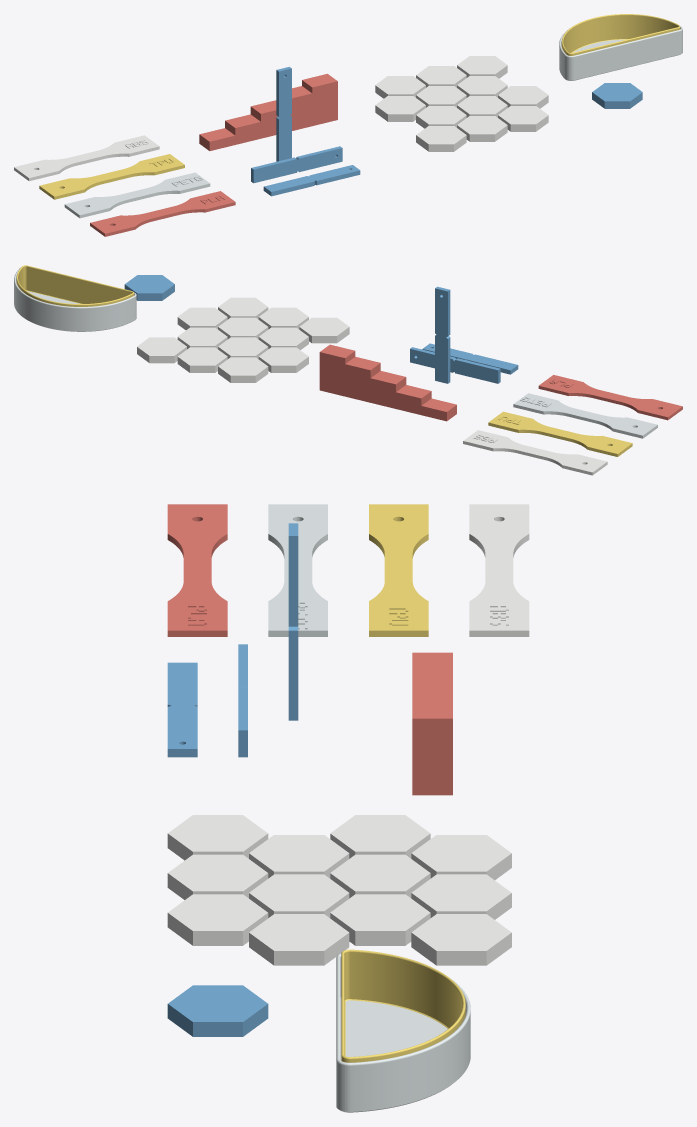
Rendered from piezas-poster-haptico.glb.
3 renders of one model, top to bottom at view 1: azimuth 30°, elevation 25°; view 2: azimuth 150°, elevation 25°; view 3: azimuth 270°, elevation 25°, orthographic. The views are drawn at different scales.
Visible parts, largest first — view 1: Placa de hexagonos, Escalera de capas, Carcasa PETG, Forro TPU, Probeta TPU, Probeta PLA, Probeta ABS, Probeta PETG, Barra de canto, Barra de pie, Barra tumbada, Hexagono de relleno; view 2: Placa de hexagonos, Escalera de capas, Carcasa PETG, Forro TPU, Probeta PETG, Probeta ABS, Probeta PLA, Probeta TPU, Barra de pie, Barra de canto, Hexagono de relleno, Barra tumbada; view 3: Placa de hexagonos, Carcasa PETG, Forro TPU, Probeta PLA, Probeta ABS, Probeta TPU, Escalera de capas, Probeta PETG, Hexagono de relleno, Barra tumbada, Barra de pie, Barra de canto.
Part boxes in pixels (left/top/right/bottom): Placa de hexagonos: left=375, top=56, right=548, bottom=151; Escalera de capas: left=199, top=73, right=337, bottom=150; Carcasa PETG: left=559, top=26, right=682, bottom=80; Forro TPU: left=561, top=14, right=680, bottom=55; Probeta TPU: left=39, top=154, right=184, bottom=199; Probeta PLA: left=90, top=191, right=235, bottom=236; Probeta ABS: left=14, top=135, right=159, bottom=181; Probeta PETG: left=64, top=172, right=210, bottom=218; Barra de canto: left=251, top=146, right=342, bottom=183; Barra de pie: left=276, top=66, right=291, bottom=161; Barra tumbada: left=263, top=165, right=360, bottom=196; Hexagono de relleno: left=592, top=83, right=642, bottom=108; Placa de hexagonos: left=137, top=297, right=349, bottom=382; Escalera de capas: left=319, top=344, right=456, bottom=421; Carcasa PETG: left=14, top=267, right=136, bottom=331; Forro TPU: left=16, top=265, right=134, bottom=306; Probeta PETG: left=513, top=393, right=657, bottom=438; Probeta ABS: left=463, top=430, right=607, bottom=475; Probeta PLA: left=538, top=375, right=682, bottom=420; Probeta TPU: left=488, top=411, right=632, bottom=456; Barra de pie: left=435, top=286, right=450, bottom=383; Barra de canto: left=410, top=347, right=500, bottom=383; Hexagono de relleno: left=124, top=275, right=174, bottom=300; Barra tumbada: left=422, top=343, right=518, bottom=374; Placa de hexagonos: left=167, top=815, right=511, bottom=965; Carcasa PETG: left=336, top=953, right=470, bottom=1112; Forro TPU: left=341, top=949, right=465, bottom=1062; Probeta PLA: left=167, top=504, right=227, bottom=636; Probeta ABS: left=469, top=504, right=529, bottom=636; Probeta TPU: left=369, top=504, right=428, bottom=636; Escalera de capas: left=412, top=652, right=452, bottom=795; Probeta PETG: left=268, top=504, right=327, bottom=636; Hexagono de relleno: left=167, top=985, right=268, bottom=1036; Barra tumbada: left=167, top=662, right=197, bottom=757; Barra de pie: left=288, top=523, right=298, bottom=720; Barra de canto: left=238, top=644, right=247, bottom=757.
Bounding box in the file's own units: 1.05 × 0.15 × 0.266.
